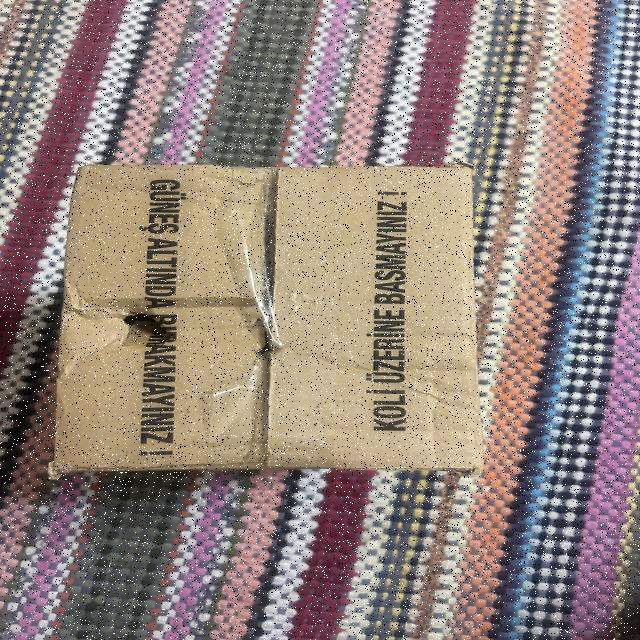damaged: (66, 162, 488, 471), (85, 292, 189, 361)
